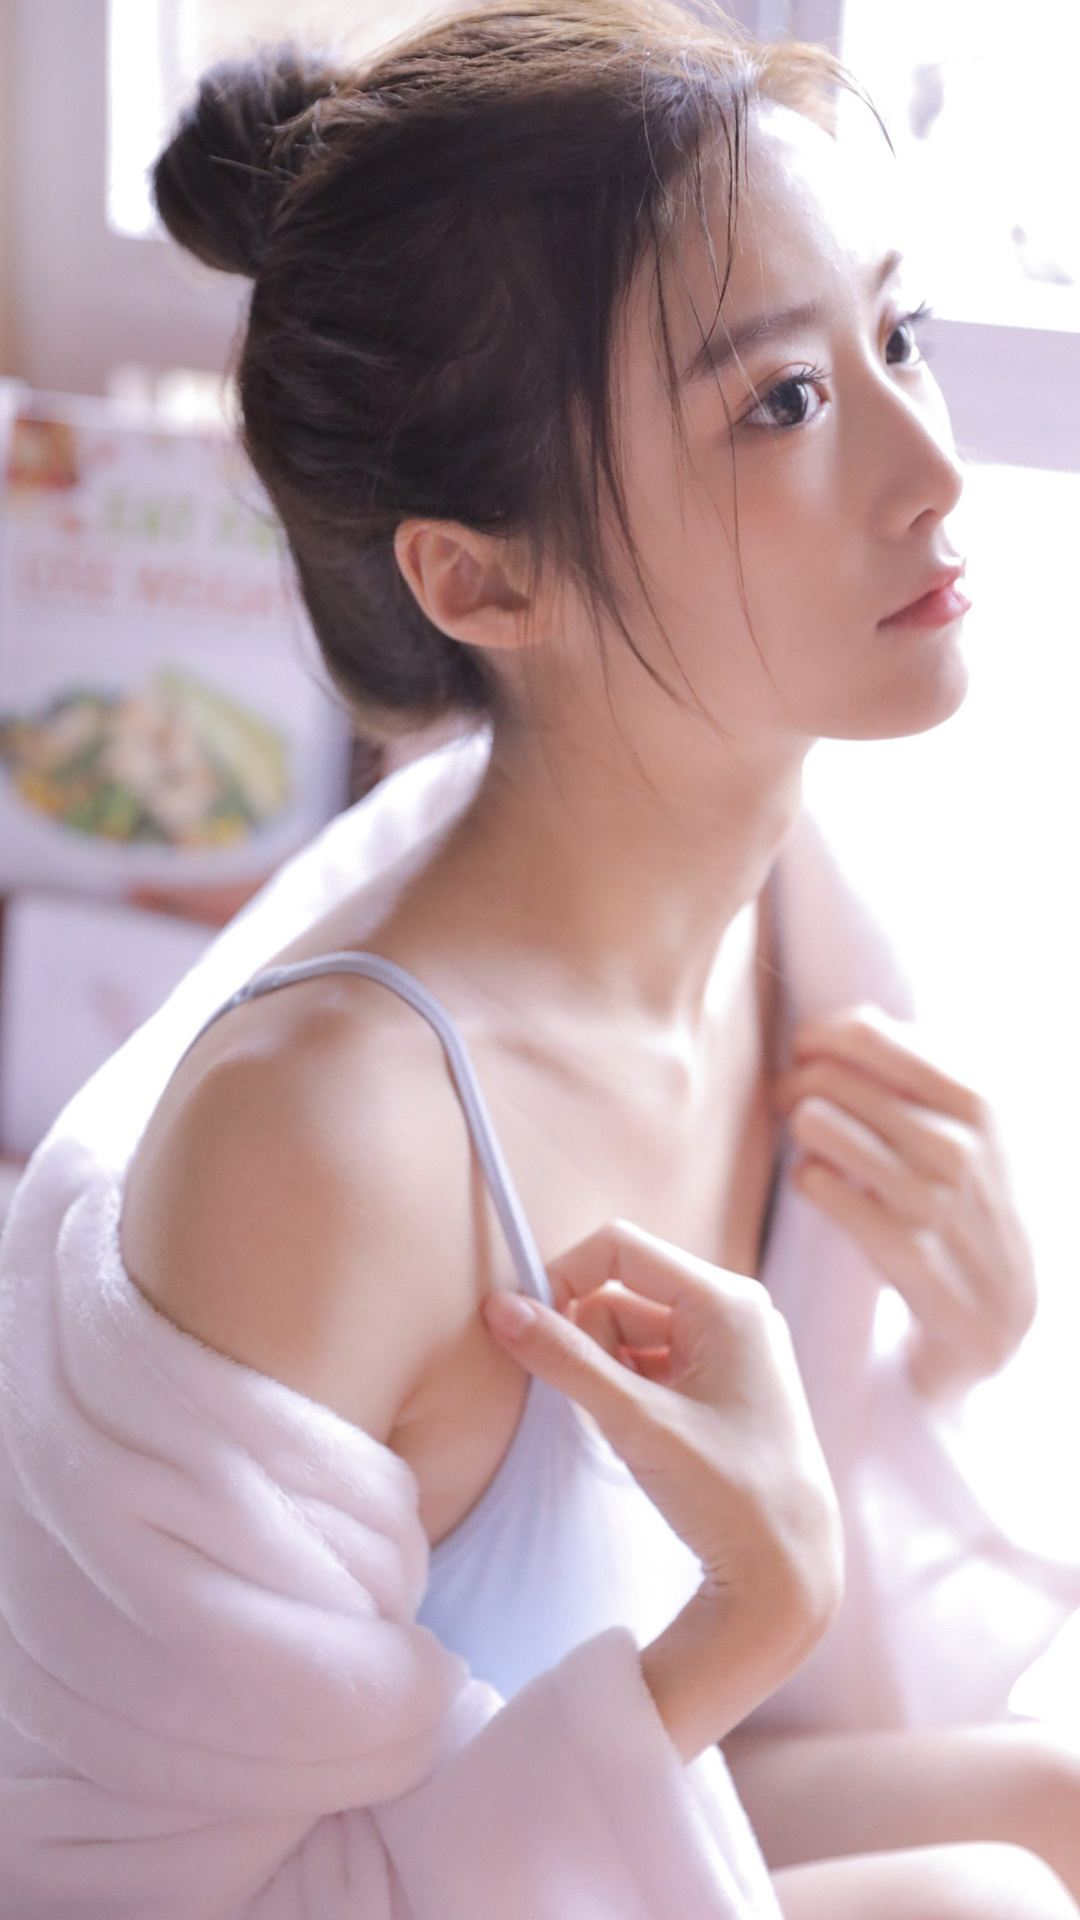person: (147, 35, 1080, 1920)
